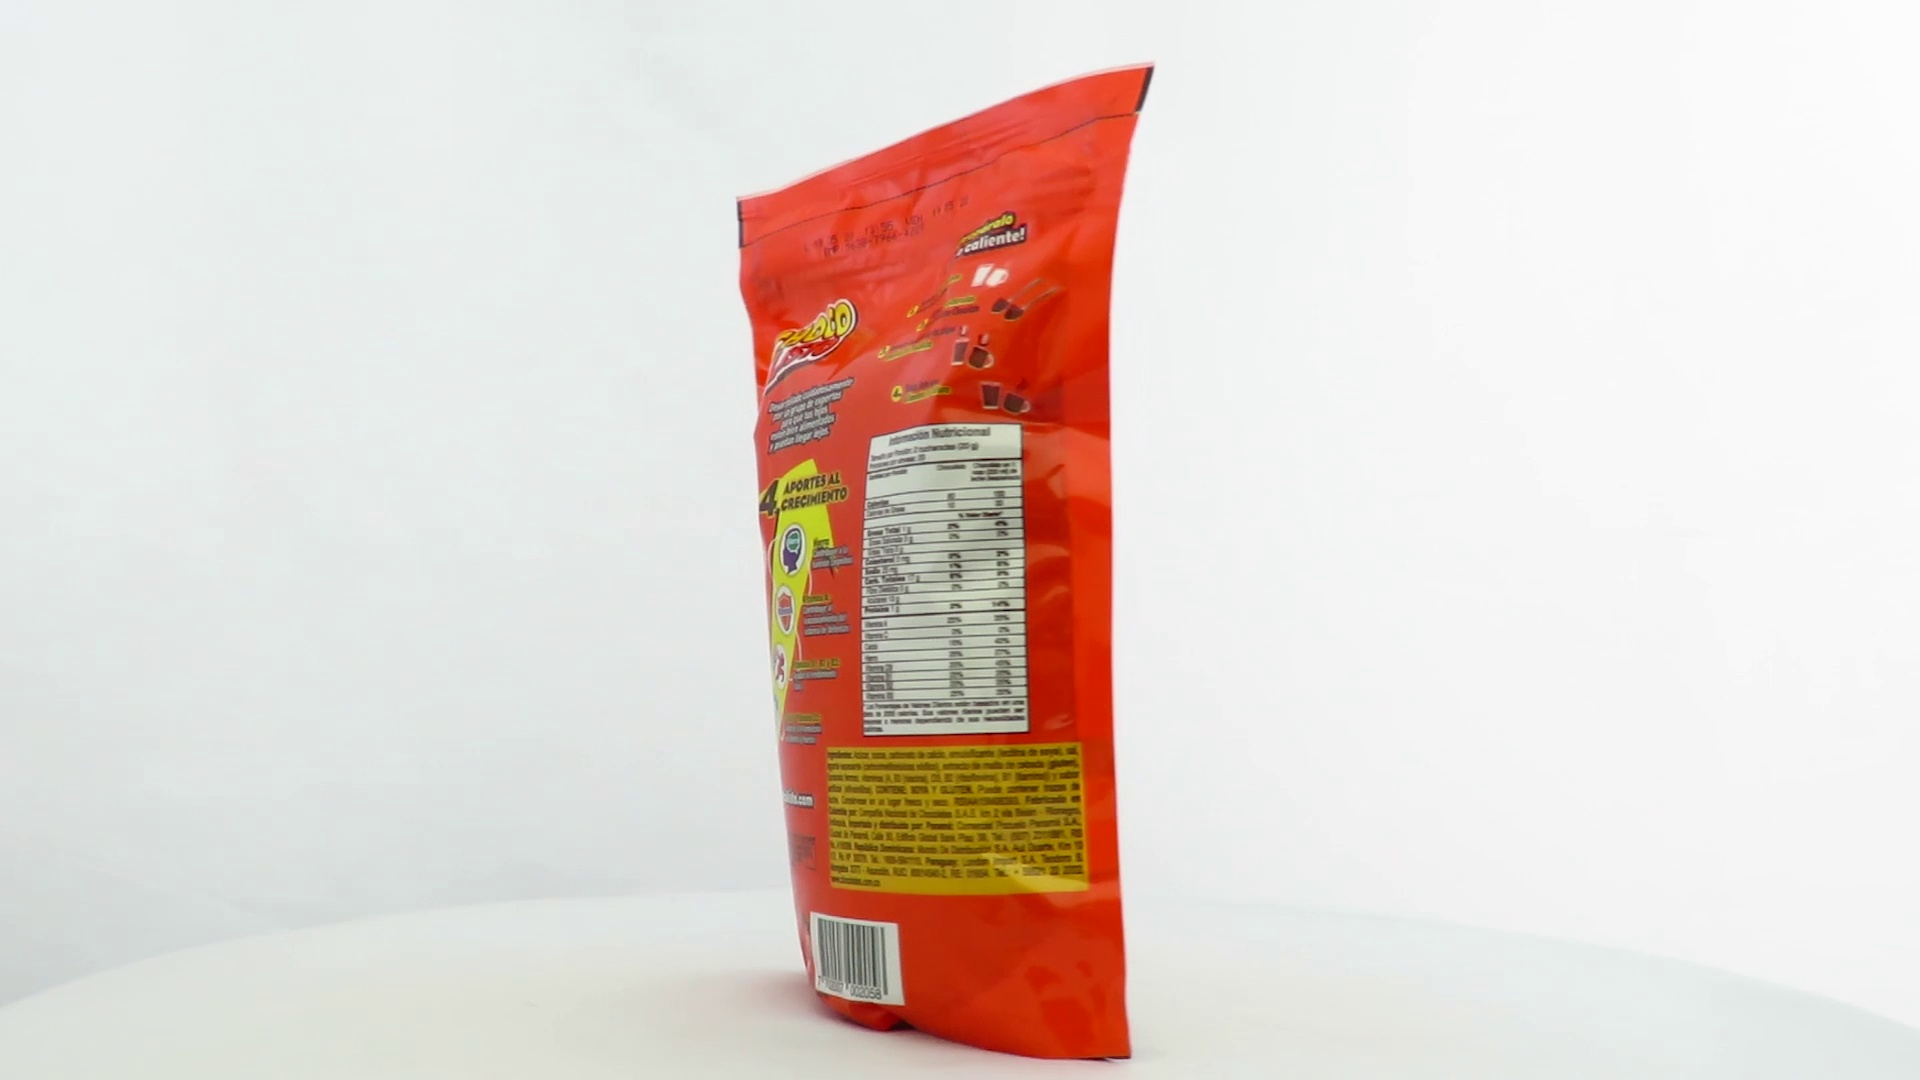COL0170103DYP40000: (731, 61, 1160, 1069)
